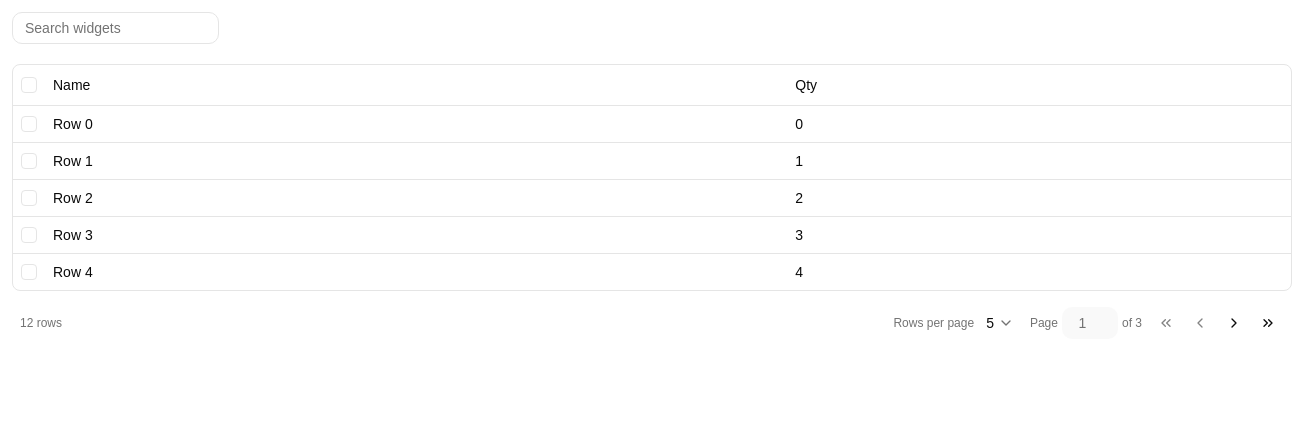
Test: DataTable › drops the select-all-matching promise when the filter changes
Click the checkbox named "Select all" at [29, 85], box [21,77,37,93]
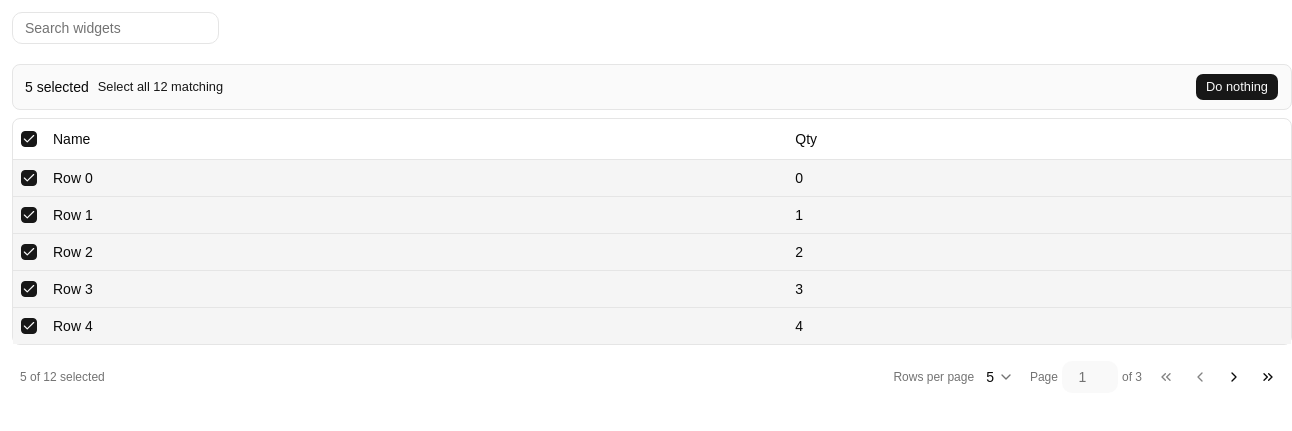
Click the button "Select all 12 matching" at [160, 87], box [97,77,224,97]
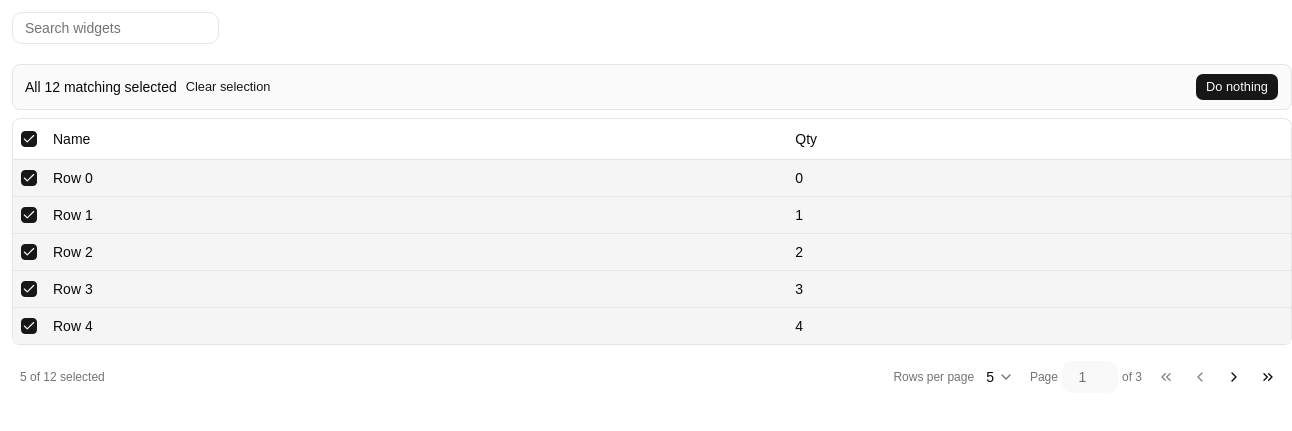
Now the text "All 12 matching selected" is shown, box [25,79,177,95]
Type "Row" into the field with placeholder "Search widgets" at [116, 28], box [12,12,219,44]
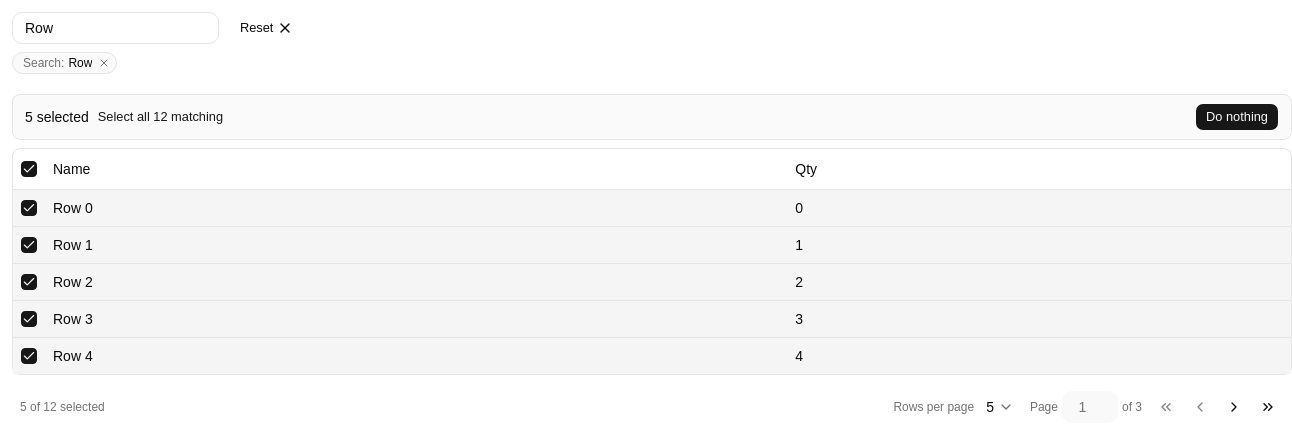
Now the text "All 12 matching selected" is gone
Now the text "5 selected" is shown, box [25,109,89,125]
